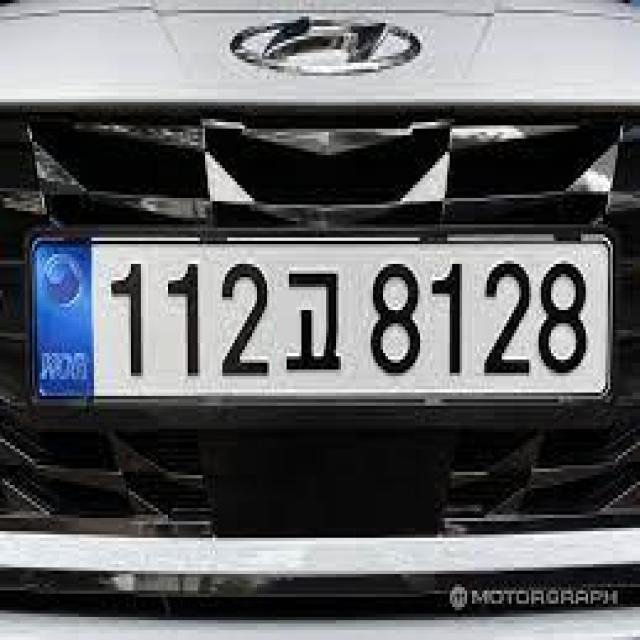illegal_plate: (25, 204, 626, 421)
